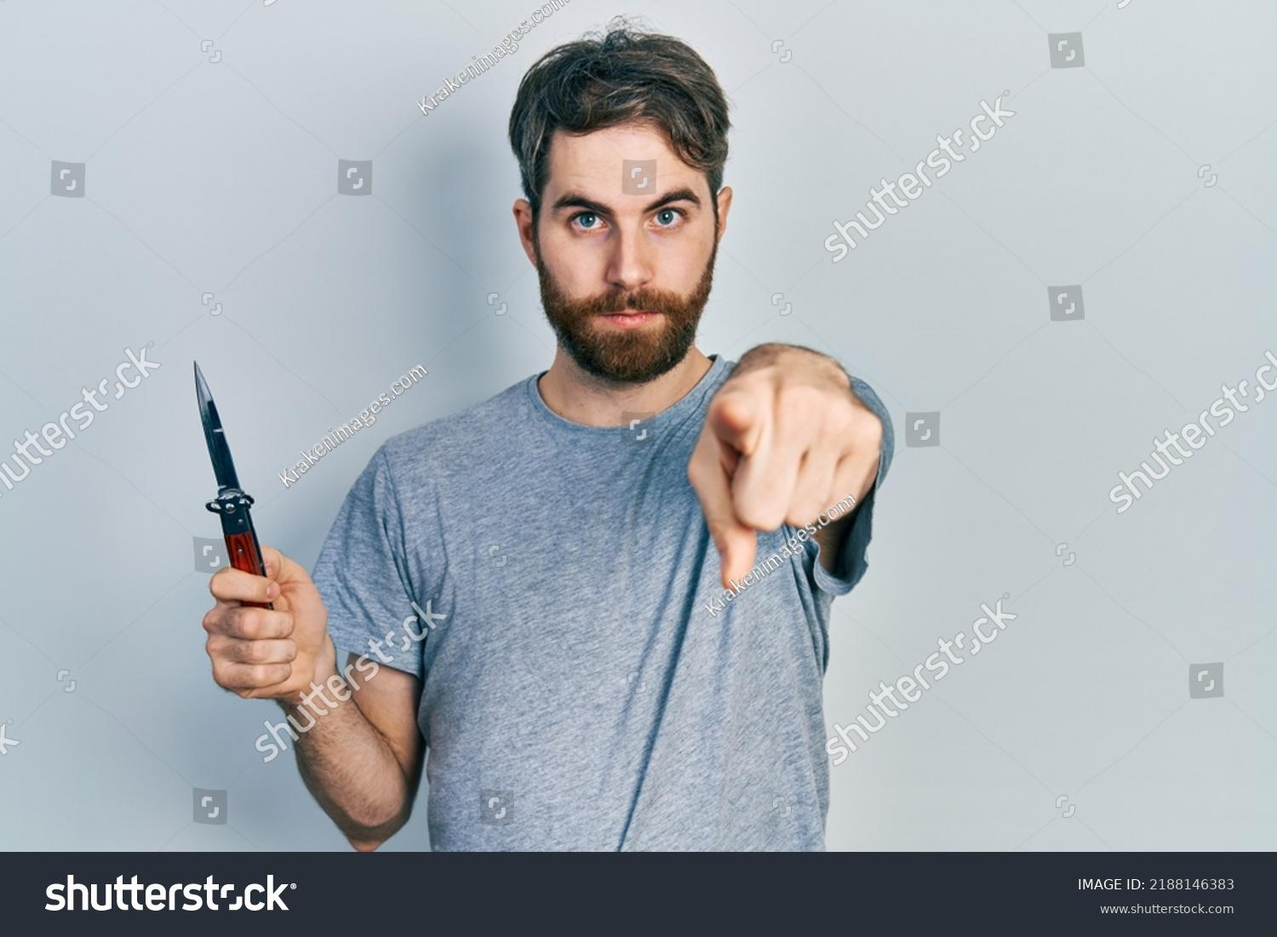Knife: (206, 30, 898, 851), (213, 551, 333, 698), (192, 361, 265, 577)
